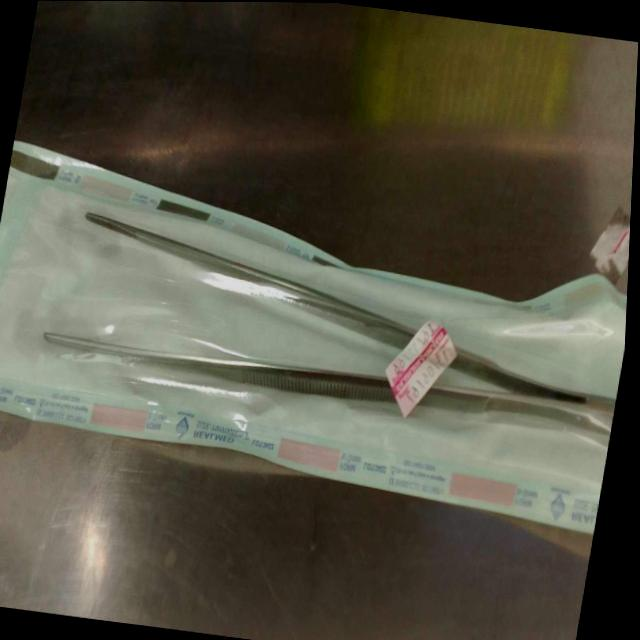General: (0, 137, 627, 536)
Sharps: (82, 210, 592, 405), (42, 328, 591, 411)
